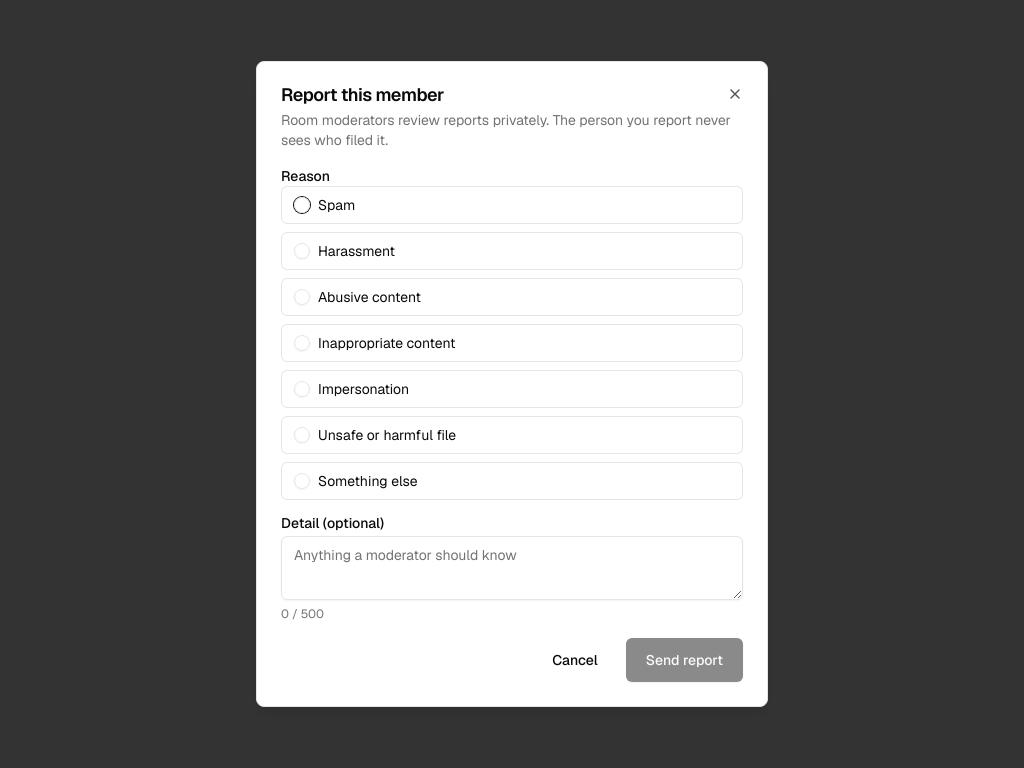
Test: ReportDialog › shows the server's message when the report is refused and stays open
Step 1. Click the radio button named "Something else" next to "Something else" → (302, 481), box [294,473,310,489]
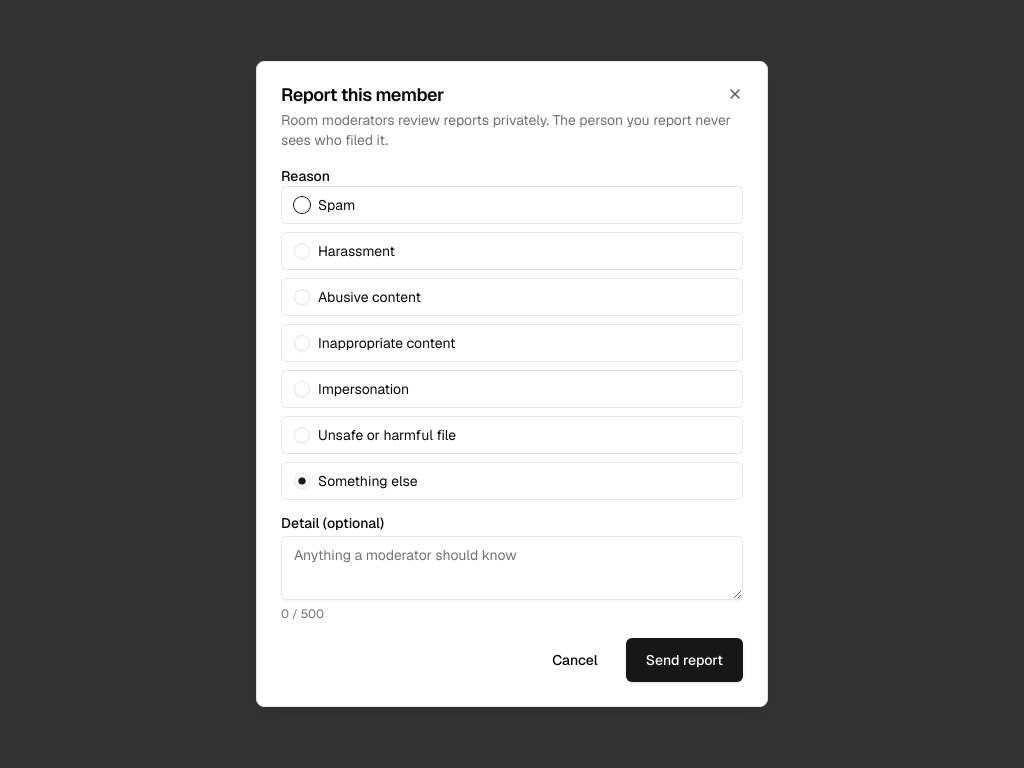
Step 2. Click the button "Send report" → (684, 660), box [626,638,743,682]
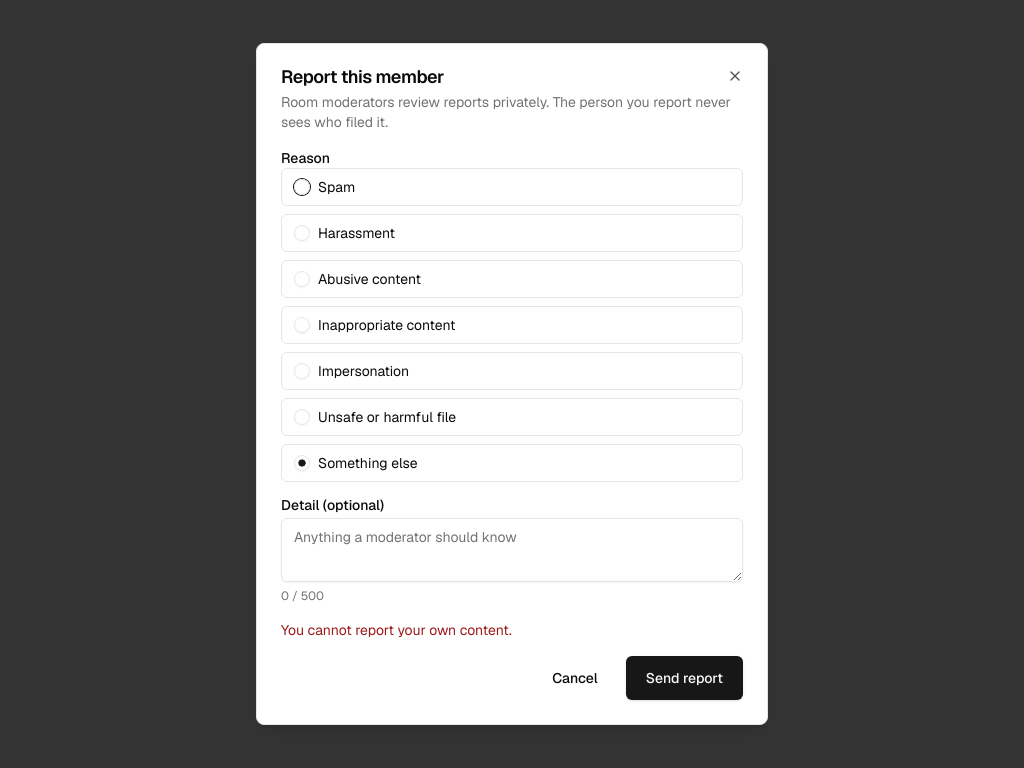
Expected: the button "Send report" is enabled, [626,656,743,700]
Expected: the message reads "You cannot report your own content.", [281,621,512,639]
